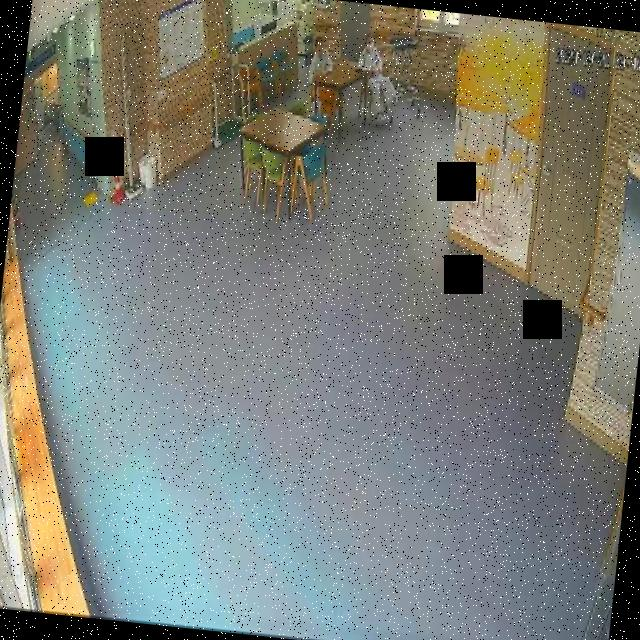patient: (352, 35, 403, 126), (306, 33, 336, 86)
sit: (352, 36, 402, 126)
